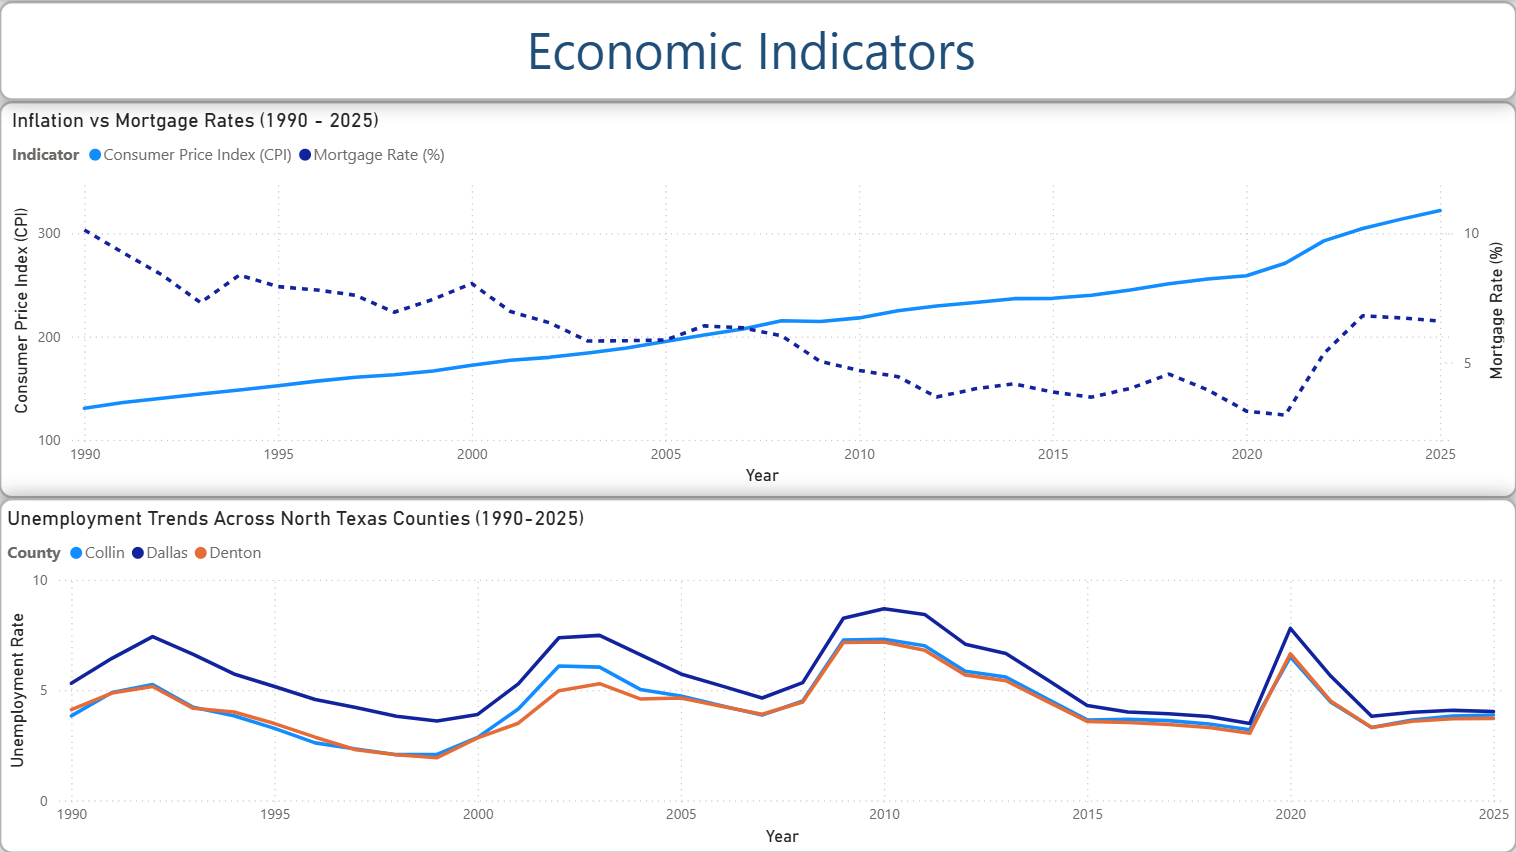

This screenshot's page, from the dashboard's own definition file:
{"tool":"powerbi","page":{"name":"Economic Drivers","canvas":[1280,720],"ordinal":1},"visuals":[{"type":"lineChart","title":"Inflation vs Mortgage Rates (1990 - 2025)","fields":{"Category":["north_texas_macro_dataset.year"],"Y":["Sum(north_texas_macro_dataset.cpi)"],"Y2":["Sum(north_texas_macro_dataset.mortgage_rate)"]},"box":[0,85,1280,335],"z":0},{"type":"lineChart","title":"Unemployment Trends Across North Texas Counties (1990-2025)","fields":{"Category":["north_texas_macro_dataset.year"],"Y":["Sum(north_texas_macro_dataset.collin_unemployment)","Sum(north_texas_macro_dataset.dallas_unemployment)","Sum(north_texas_macro_dataset.denton_unemployment)"]},"box":[0,420,1280,300.3],"z":1000},{"type":"textbox","box":[0,1,1280,84],"z":2000}]}

Visuals, with their boxes in screenshot pixels (x1, y1, x2, y2), scaled from the page's 1280x720 canvas onto the 1516x852 screenshot:
"Inflation vs Mortgage Rates (1990 - 2025)" lineChart: region(0, 101, 1515, 497)
"Unemployment Trends Across North Texas Counties (1990-2025)" lineChart: region(0, 497, 1515, 851)
textbox: region(0, 1, 1515, 101)
